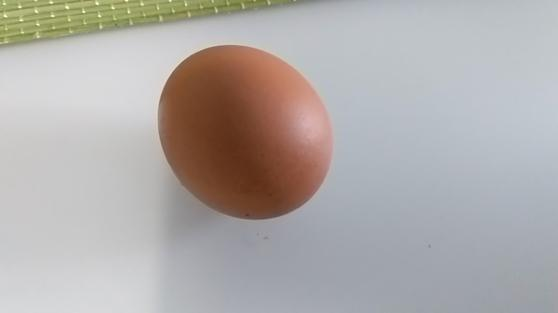egg: (162, 41, 332, 217)
